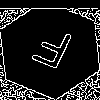F: (25, 25, 76, 79)
